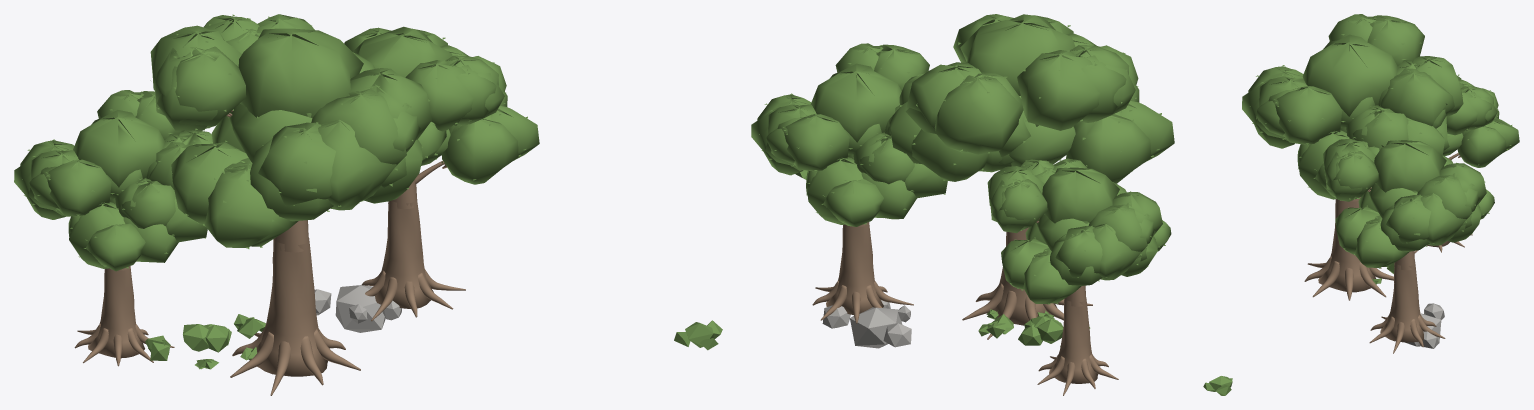
File: floresta_cluster.glb
3 renders of one model, left to right at view 1: azimuth 30°, elevation 25°; view 2: azimuth 150°, elevation 25°; view 3: azimuth 270°, elevation 25°, orthographic. The views are drawn at different scales.
Visible parts, largest first — view 1: Floresta_Copas, Floresta_Troncos, Floresta_Rochas; view 2: Floresta_Copas, Floresta_Troncos, Floresta_Rochas; view 3: Floresta_Copas, Floresta_Troncos, Floresta_Rochas.
Boxes of the visible parts, x1,y1,x2,y2 form: Floresta_Copas: (14,14,722,369); Floresta_Troncos: (74,110,465,395); Floresta_Rochas: (314,285,401,332); Floresta_Copas: (751,14,1174,346); Floresta_Troncos: (812,219,1118,395); Floresta_Rochas: (822,300,911,348); Floresta_Copas: (1203,14,1519,395); Floresta_Troncos: (1304,153,1472,353); Floresta_Rochas: (1405,303,1444,348).
Size of the model in its own units: 32.87 by 20.86 by 22.68.
